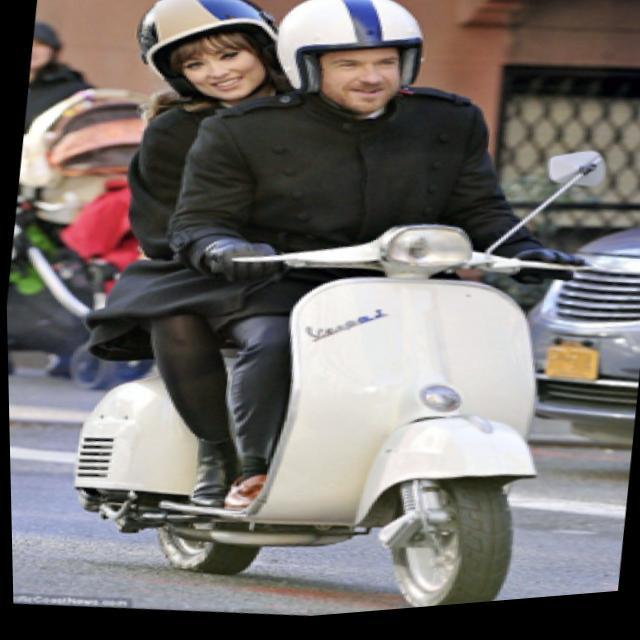Helmet: (267, 0, 424, 123), (129, 0, 285, 111)
